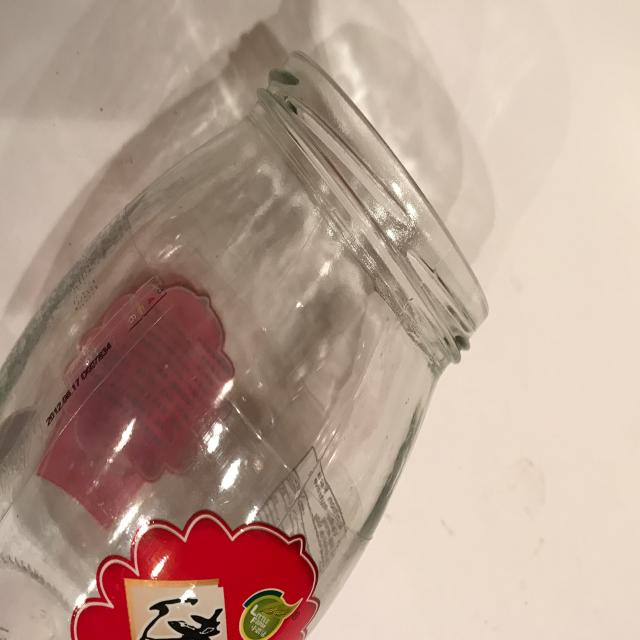glass: (1, 48, 489, 639)
